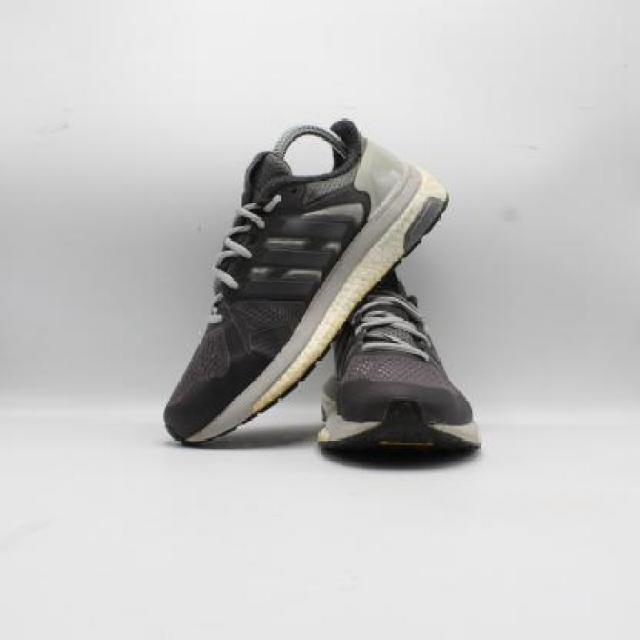Adidas: (247, 207, 356, 320)
